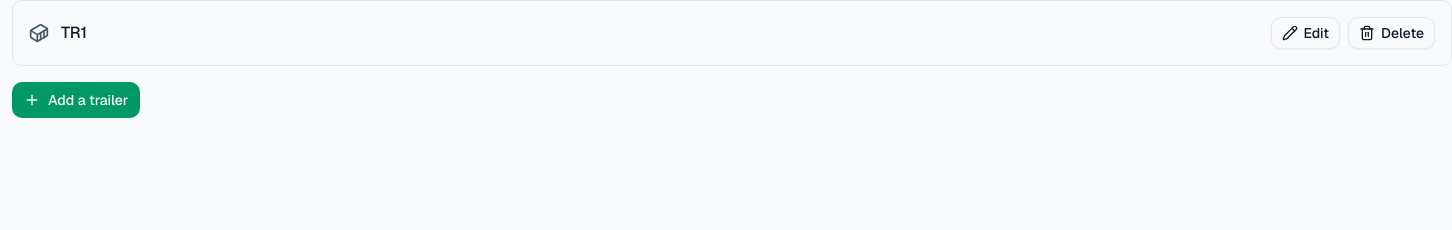
Test: TrailerList › edits a trailer without a name
Click the button with aria-label "Edit TR1" at [1305, 33], box [1271,17,1340,49]
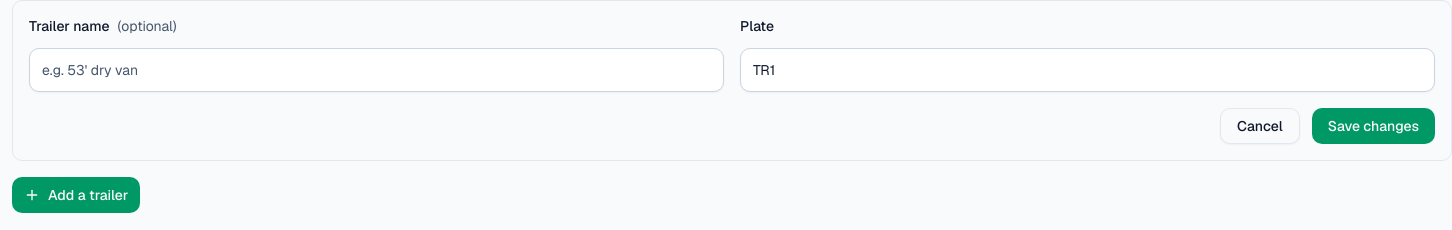
Expected: the field labelled "Trailer name (optional)" is empty, [29,48,724,92]
Click the button "Cancel" at [1260, 126], box [1220,108,1300,144]
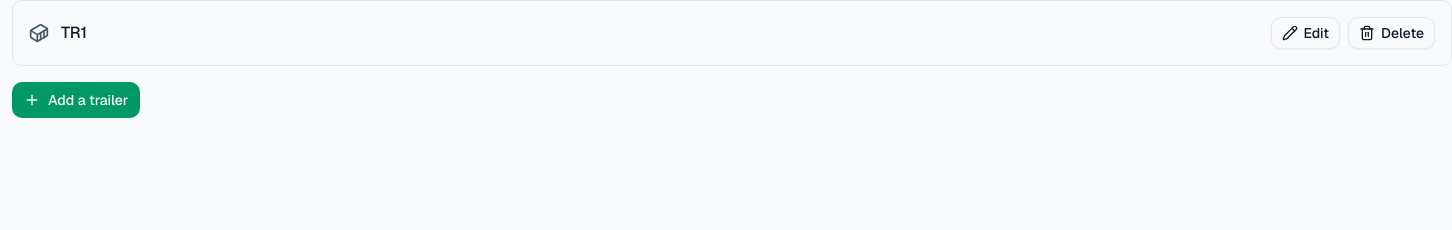
Expected: the button with aria-label "Edit TR1" is shown, [1271,17,1340,49]
